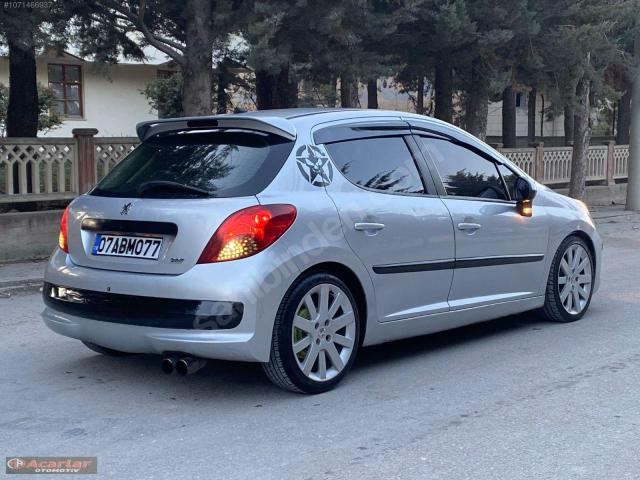plaka: (92, 234, 164, 260)
